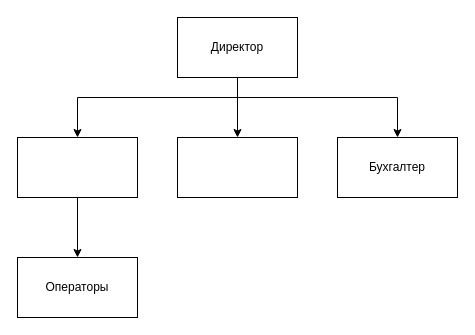
Image size: 475x335. Some labels were removed from this diagram. Here are the shapes that lost their labels. From the top down, the centre of each, then its label:
At (77,167): "менеджеры".
At (237,167): "Администраторы".
